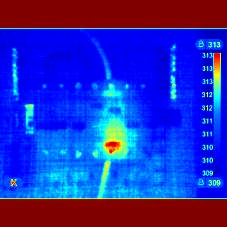High: (94, 118, 140, 158)
